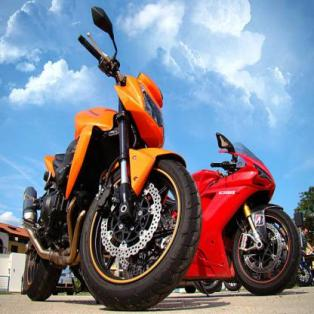Motocicleta: (16, 1, 201, 313), (194, 122, 300, 295)
